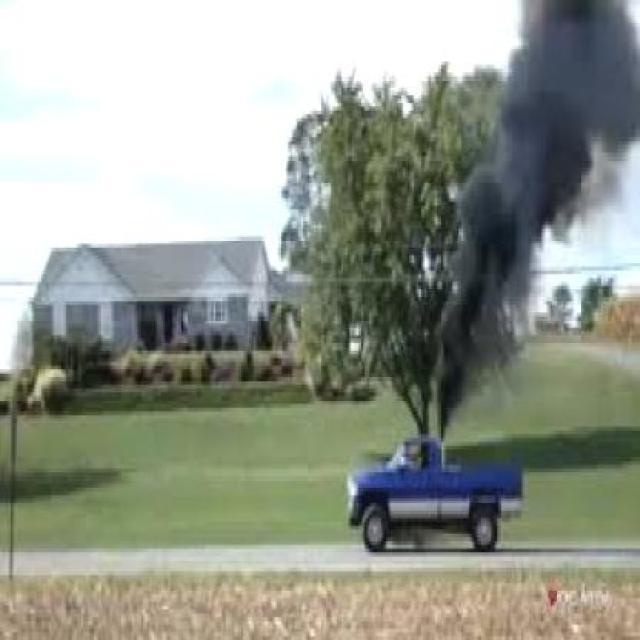Smoke: (431, 0, 640, 441)
